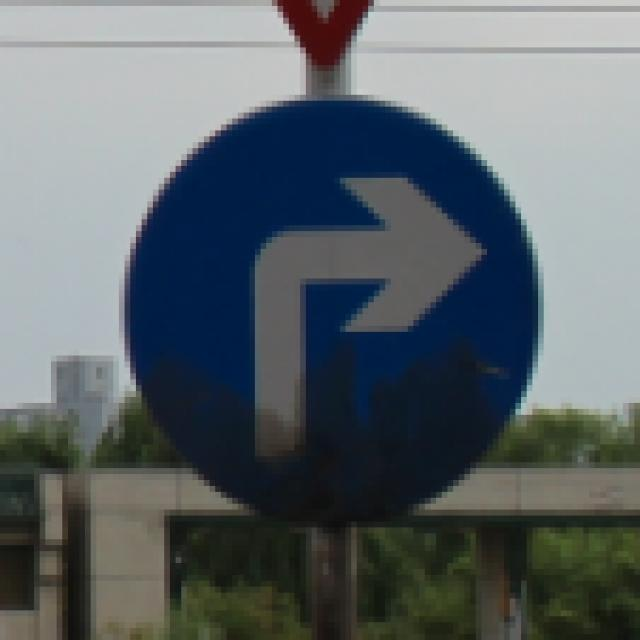Right: (112, 86, 554, 526)
